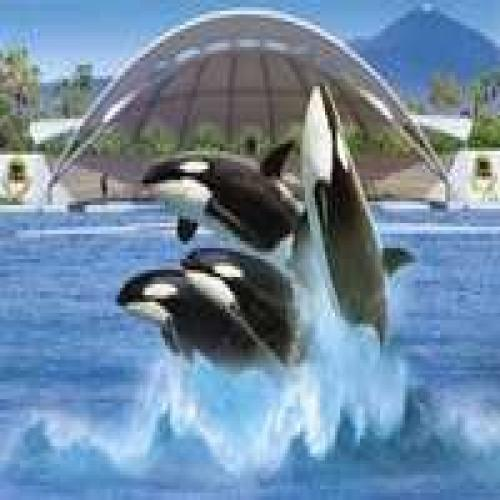killer_whale-endangered: (280, 72, 437, 382), (126, 99, 314, 273), (98, 258, 313, 409), (176, 224, 305, 340)
